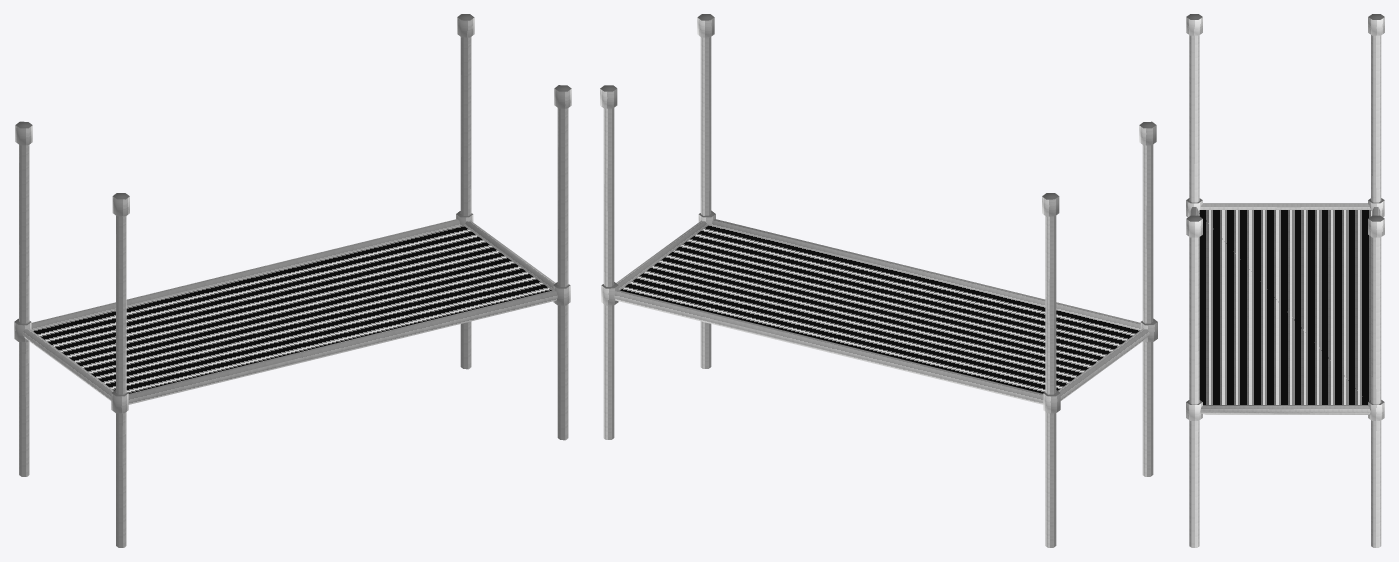
File: metal_rack_stackable.glb
3 renders of one model, left to right at view 1: azimuth 30°, elevation 25°; view 2: azimuth 150°, elevation 25°; view 3: azimuth 270°, elevation 25°, orthographic. The views are drawn at different scales.
Parts seen in each view (by area): view 1: metal_rack_stackable_rack, metal_rack_stackable, metal_rack_stackable_shelf; view 2: metal_rack_stackable_rack, metal_rack_stackable, metal_rack_stackable_shelf; view 3: metal_rack_stackable_rack, metal_rack_stackable, metal_rack_stackable_shelf.
Part boxes in pixels (x1=…): metal_rack_stackable_rack: x1=32, y1=225, x2=551, y2=393; metal_rack_stackable: x1=15, y1=14, x2=571, y2=547; metal_rack_stackable_shelf: x1=14, y1=211, x2=570, y2=413; metal_rack_stackable_rack: x1=620, y1=225, x2=1139, y2=393; metal_rack_stackable: x1=600, y1=14, x2=1156, y2=547; metal_rack_stackable_shelf: x1=601, y1=210, x2=1157, y2=413; metal_rack_stackable_rack: x1=1198, y1=210, x2=1371, y2=404; metal_rack_stackable: x1=1186, y1=14, x2=1384, y2=547; metal_rack_stackable_shelf: x1=1186, y1=198, x2=1384, y2=420.
Size of the model in its own units: 1.46 by 1.07 by 0.5874.
Materials: 1 (1 with a texture image).
